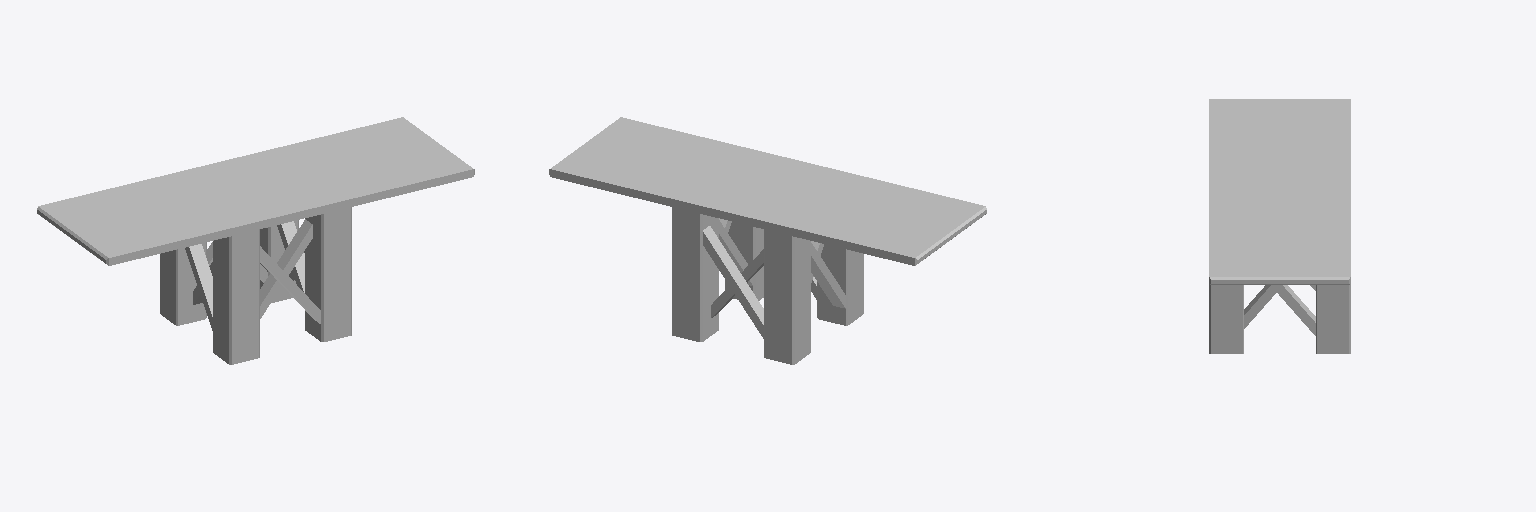
The model's file is TowerBoard.obj.
The picture shows the model from 3 angles: view 1: azimuth 30°, elevation 25°; view 2: azimuth 150°, elevation 25°; view 3: azimuth 270°, elevation 25°; orthographic projection.
Visible parts, largest first — view 1: pCube5, BoardLeft, BoardMid, BoardRight; view 2: pCube5, BoardLeft, BoardMid, BoardRight; view 3: BoardRight, BoardMid, BoardLeft, pCube5.
Part boxes in pixels (x1,y1,x2,y2): pCube5: (160,207,351,364); BoardLeft: (37,177,229,265); BoardMid: (160,147,352,236); BoardRight: (283,117,474,206); pCube5: (672,207,863,364); BoardLeft: (794,177,986,265); BoardMid: (671,147,863,236); BoardRight: (549,117,740,206); BoardRight: (1209,218,1350,284); BoardMid: (1209,158,1350,217); BoardLeft: (1209,99,1350,157); pCube5: (1209,285,1350,353).
Size of the model in its own units: 12 by 4.25 by 4.